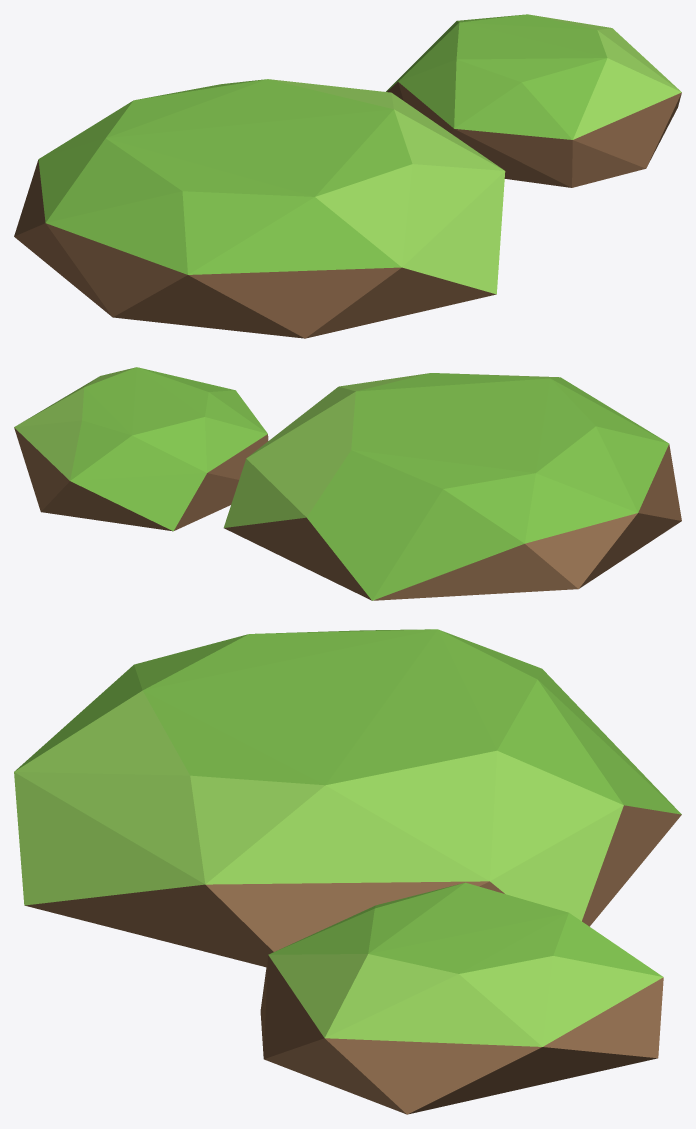
Rendered from rock_smallFlatC.glb.
3 renders of one model, top to bottom at view 1: azimuth 30°, elevation 25°; view 2: azimuth 150°, elevation 25°; view 3: azimuth 270°, elevation 25°, orthographic. The views are drawn at different scales.
Parts seen in each view (by area): view 1: rock_smallFlatC; view 2: rock_smallFlatC; view 3: rock_smallFlatC.
Boxes of the visible parts, x1=… form: rock_smallFlatC: x1=14, y1=14, x2=681, y2=338; rock_smallFlatC: x1=14, y1=367, x2=681, y2=600; rock_smallFlatC: x1=14, y1=629, x2=681, y2=1114.
Size of the model in its own units: 0.4151 by 0.0599 by 0.2832.
Materials: 1 (1 with a texture image).
